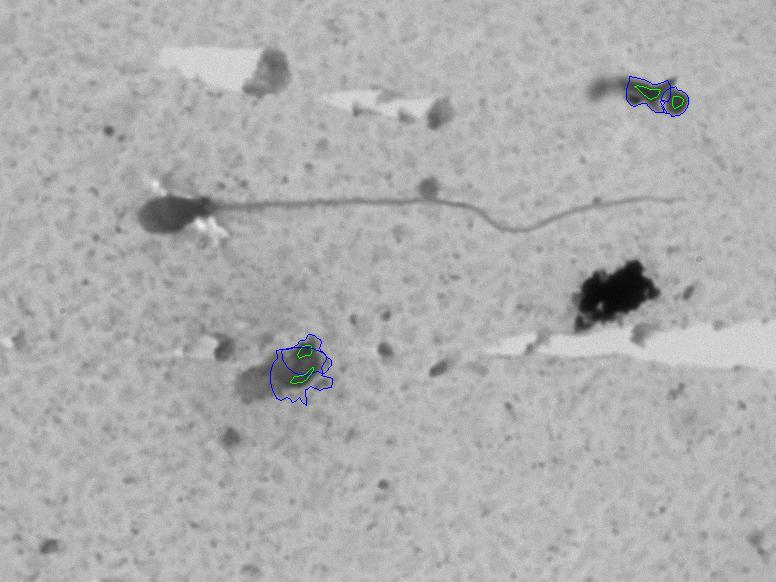Normal: (102, 125, 721, 256)
